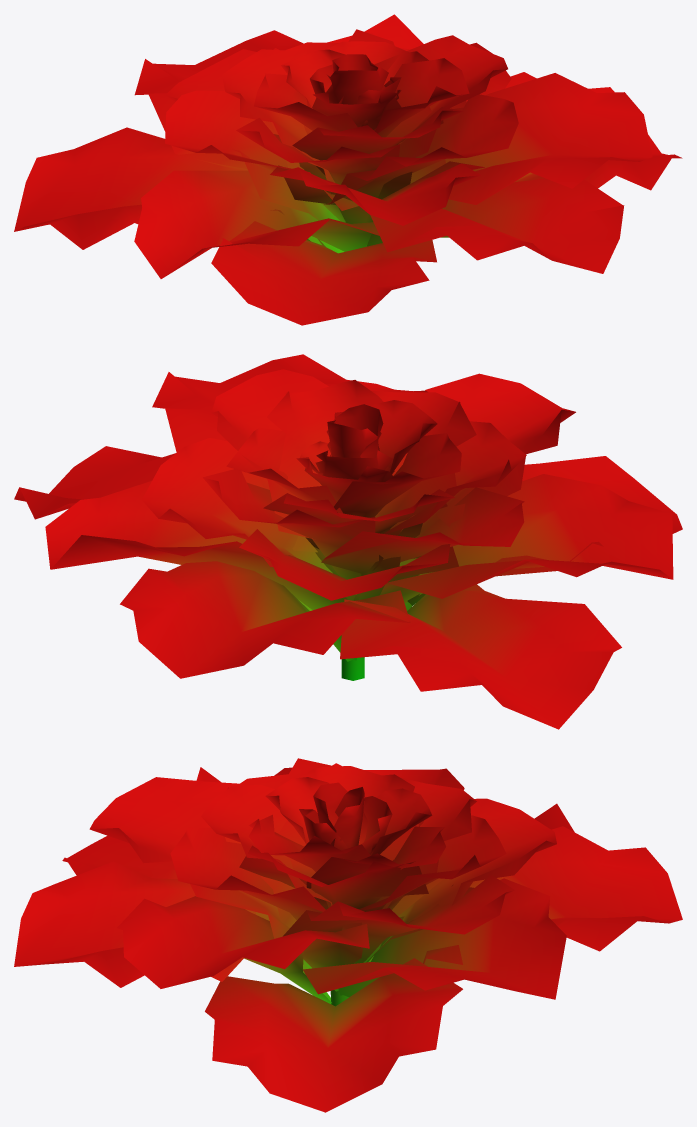
File: Purple Ornamental Kale_LOD2_Var1_ugdieawja.fbx
The picture shows the model from 3 angles, top to bottom: view 1: azimuth 30°, elevation 25°; view 2: azimuth 150°, elevation 25°; view 3: azimuth 270°, elevation 25°; orthographic projection. The views are drawn at different scales.
Parts seen in each view (by area): view 1: _0bcb_Var1_LOD2; view 2: _0bcb_Var1_LOD2; view 3: _0bcb_Var1_LOD2.
Boxes of the visible parts, bbox=[...] form: _0bcb_Var1_LOD2: bbox=[14, 14, 682, 325]; _0bcb_Var1_LOD2: bbox=[14, 354, 682, 729]; _0bcb_Var1_LOD2: bbox=[14, 758, 682, 1112].
Size of the model in its own units: 51.06 by 20.33 by 48.99.
